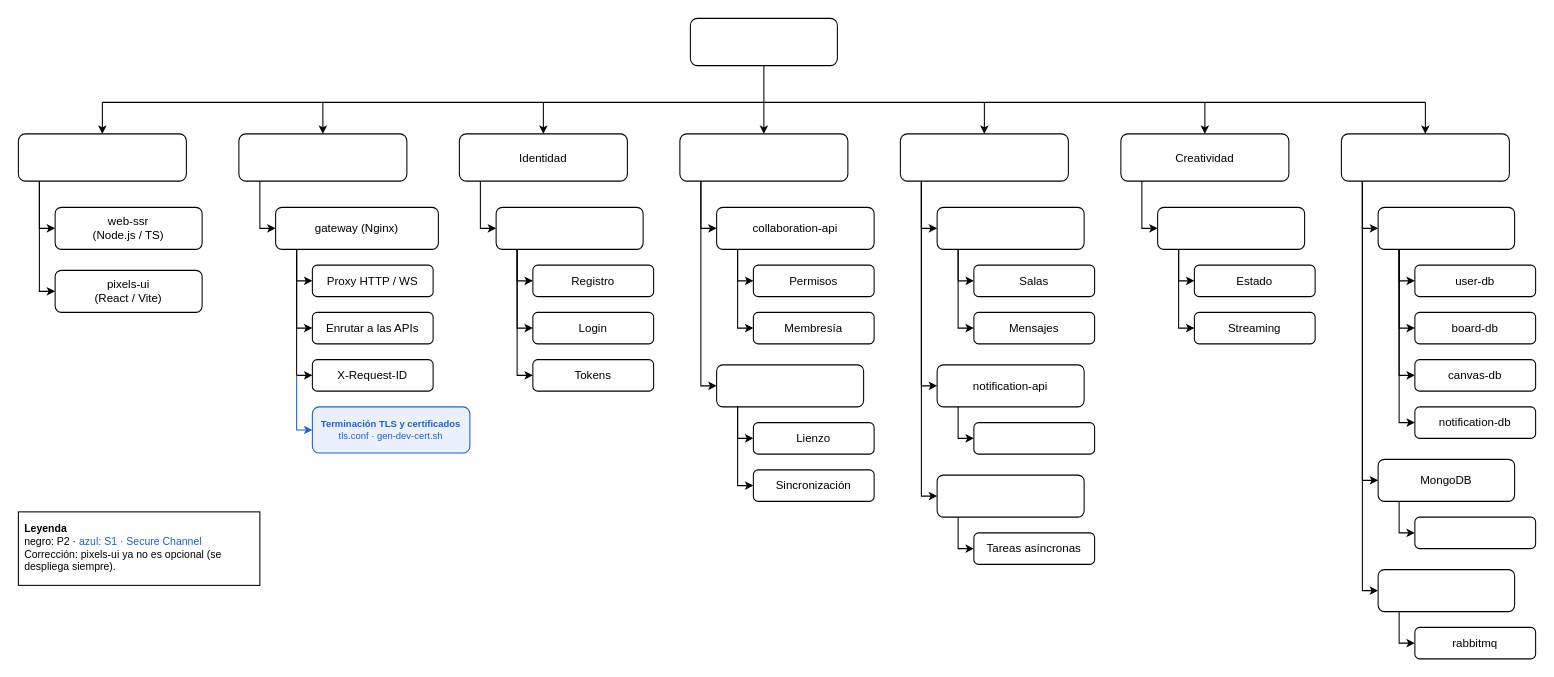
The diagram is 1554 pixels wide and 677 high, and some of its shapes have lost their labels. The shapes that lost their labels are listed below. From the top down, each one's centre as x and y in pixels, then its label:
At [763,41]: "CollaBoard".
At [101,157]: "Presentación".
At [322,157]: "Gateway y trazabilidad".
At [763,157]: "Tableros y colaboración".
At [983,157]: "Comunicación".
At [1424,157]: "Infraestructura de datos".
At [569,227]: "auth-api".
At [1010,227]: "chat-api".
At [1231,227]: "pixels-api".
At [1446,227]: "PostgreSQL".
At [790,385]: "pizarra-api".
At [1034,438]: "Bandeja".
At [1010,495]: "message-worker".
At [1475,532]: "pixels-nosqldb".
At [1446,590]: "Mensajería".
